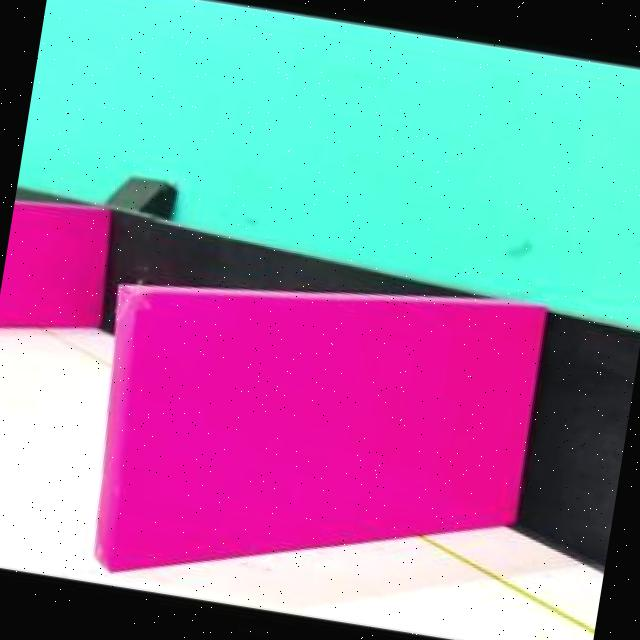xparking: (100, 299, 508, 614), (0, 211, 86, 335)
